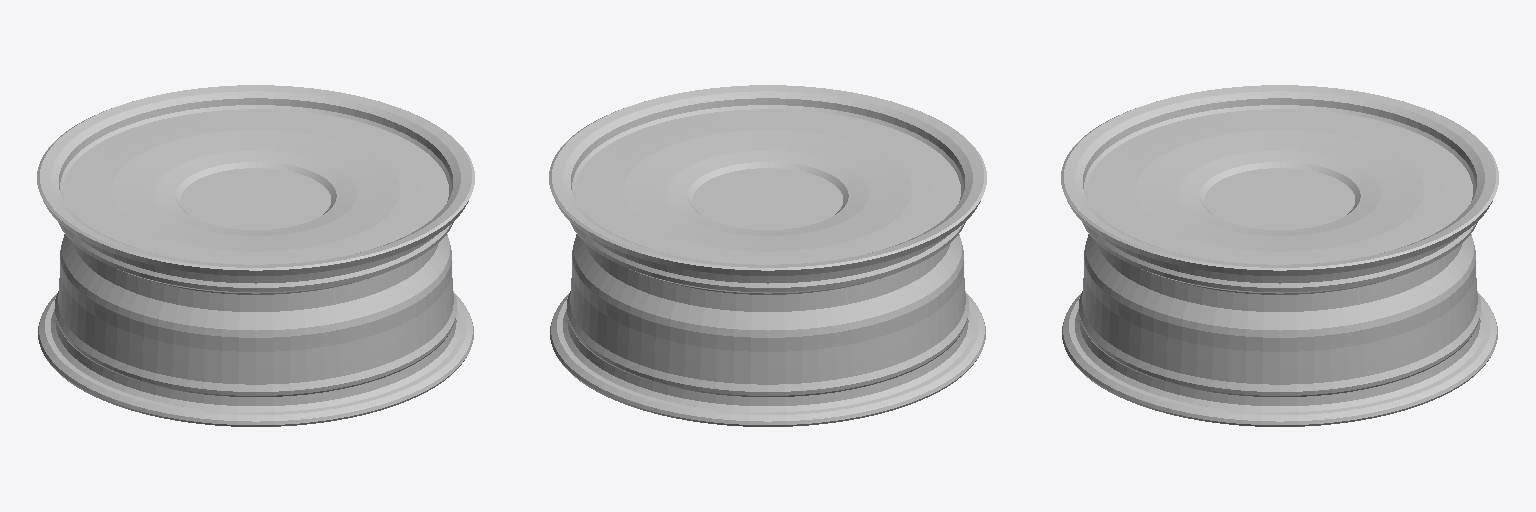
File: Cherokee_Wheel.obj
3 views of the same model, side by side, from view 1: azimuth 30°, elevation 25°; view 2: azimuth 150°, elevation 25°; view 3: azimuth 270°, elevation 25° (orthographic).
Size of the model in its own units: 0.381 by 0.1524 by 0.381.